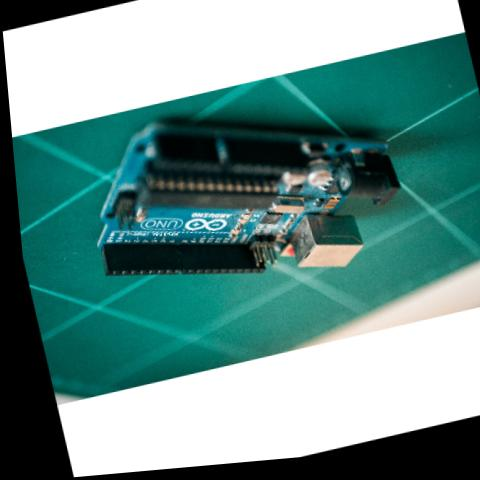Arduino-Uno: (61, 69, 417, 327)
